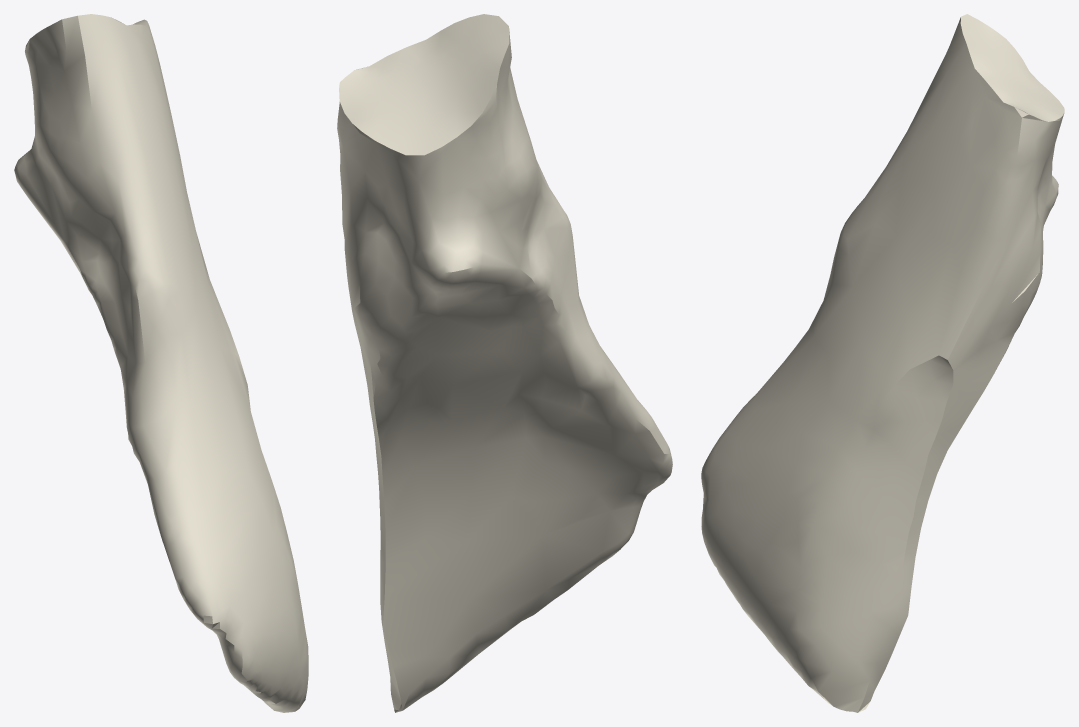
File: fma53648_mm2065.glb
The picture shows the model from 3 angles, left to right: view 1: azimuth 30°, elevation 25°; view 2: azimuth 150°, elevation 25°; view 3: azimuth 270°, elevation 25°; orthographic projection. The views are drawn at different scales.
Visible parts, largest first — view 1: FMA53648_MM2065; view 2: FMA53648_MM2065; view 3: FMA53648_MM2065.
Part boxes in pixels (<box>): FMA53648_MM2065: <box>14,14,308,712</box>; FMA53648_MM2065: <box>337,14,672,712</box>; FMA53648_MM2065: <box>701,14,1064,712</box>.
Bounding box in the file's own units: 0.00774 × 0.0285 × 0.0149.
